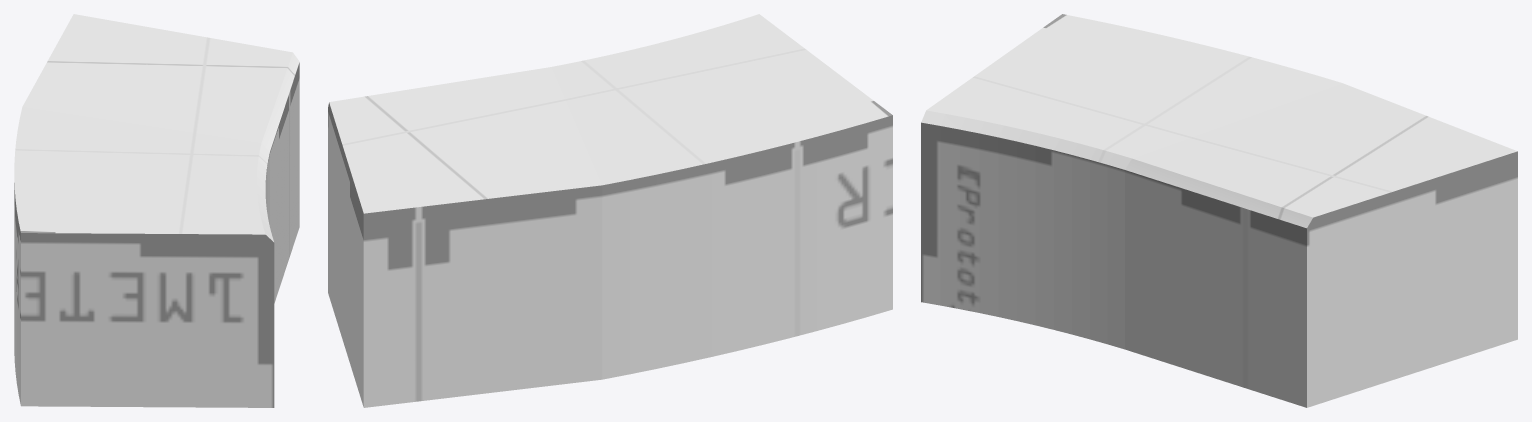
The model's file is Platform_CaveFallingRocks_Arch_2_.fbx.
The picture shows the model from 3 angles, left to right: view 1: azimuth 30°, elevation 25°; view 2: azimuth 150°, elevation 25°; view 3: azimuth 270°, elevation 25°; orthographic projection. The views are drawn at different scales.
Visible parts, largest first — view 1: Platform_CaveFallingRocks_Arch_2_; view 2: Platform_CaveFallingRocks_Arch_2_; view 3: Platform_CaveFallingRocks_Arch_2_.
Part boxes in pixels (x1,y1,x2,y2): Platform_CaveFallingRocks_Arch_2_: [14, 14, 299, 407]; Platform_CaveFallingRocks_Arch_2_: [328, 14, 892, 407]; Platform_CaveFallingRocks_Arch_2_: [921, 14, 1517, 407].
Size of the model in its own units: 50.56 by 21.6 by 61.46.
Materials: 1 (1 with a texture image).
